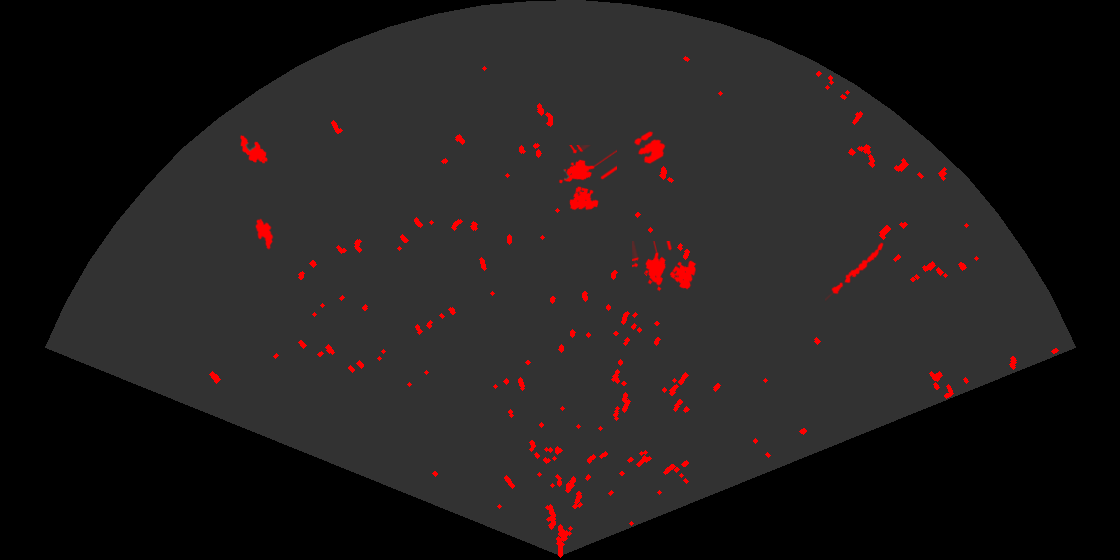AUV: (239, 133, 269, 165), (254, 217, 275, 251)
ball: (632, 130, 667, 166)
cage: (557, 145, 617, 212), (632, 241, 698, 293)
chain: (825, 241, 885, 302)
